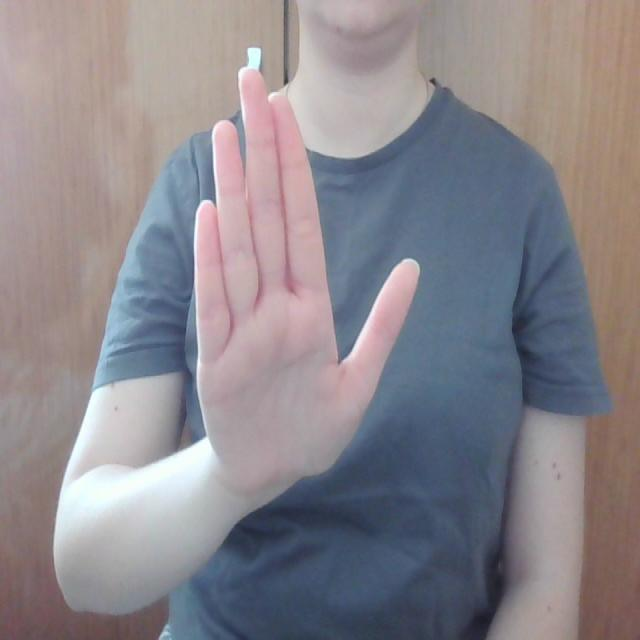Dur: (140, 60, 426, 482)
